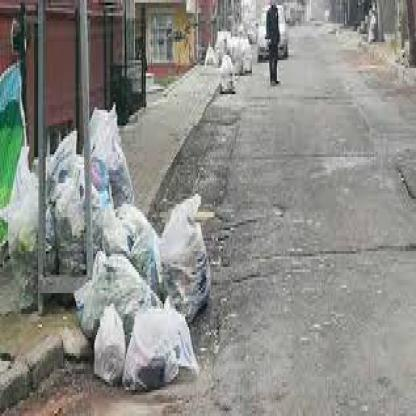Garbage: (135, 283, 188, 400), (164, 199, 209, 322), (93, 243, 144, 348), (96, 102, 140, 210), (12, 146, 34, 312), (58, 168, 84, 278), (90, 311, 119, 390), (54, 126, 73, 197), (216, 58, 242, 96), (204, 40, 219, 74)
